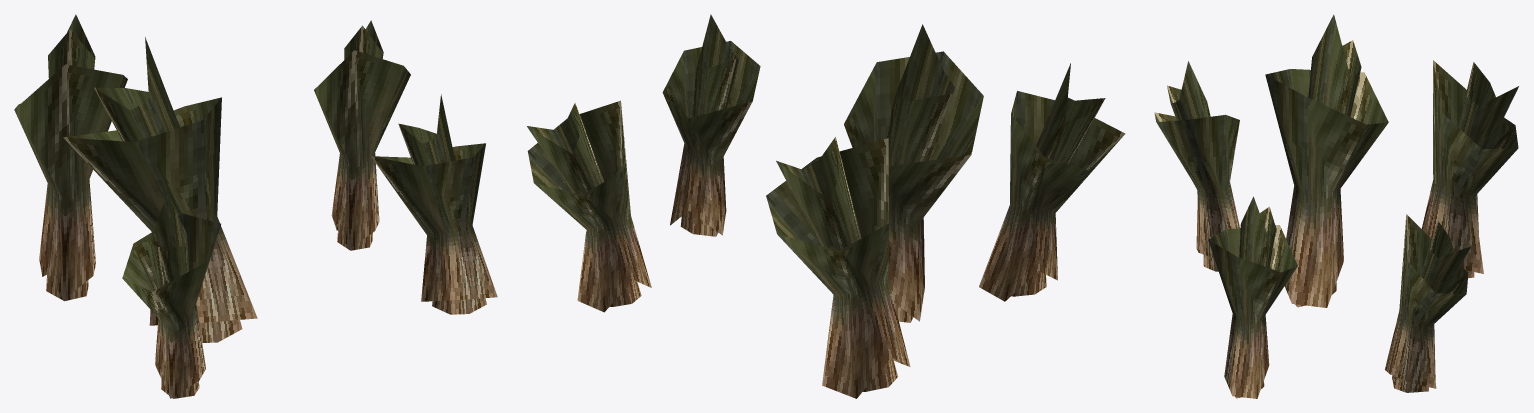
Rendered from Tree09.obj.
3 views of the same model, side by side, from view 1: azimuth 30°, elevation 25°; view 2: azimuth 150°, elevation 25°; view 3: azimuth 270°, elevation 25° (orthographic). The views are drawn at different scales.
Visible parts, largest first — view 1: Mesh_0; view 2: Mesh_0; view 3: Mesh_0.
Part boxes in pixels (x1,y1,x2,y2): Mesh_0: (14, 14, 497, 398); Mesh_0: (527, 14, 1125, 398); Mesh_0: (1154, 14, 1518, 398).
Size of the model in its own units: 2.8 by 1.92 by 2.41.
Materials: 1 (1 with a texture image).
